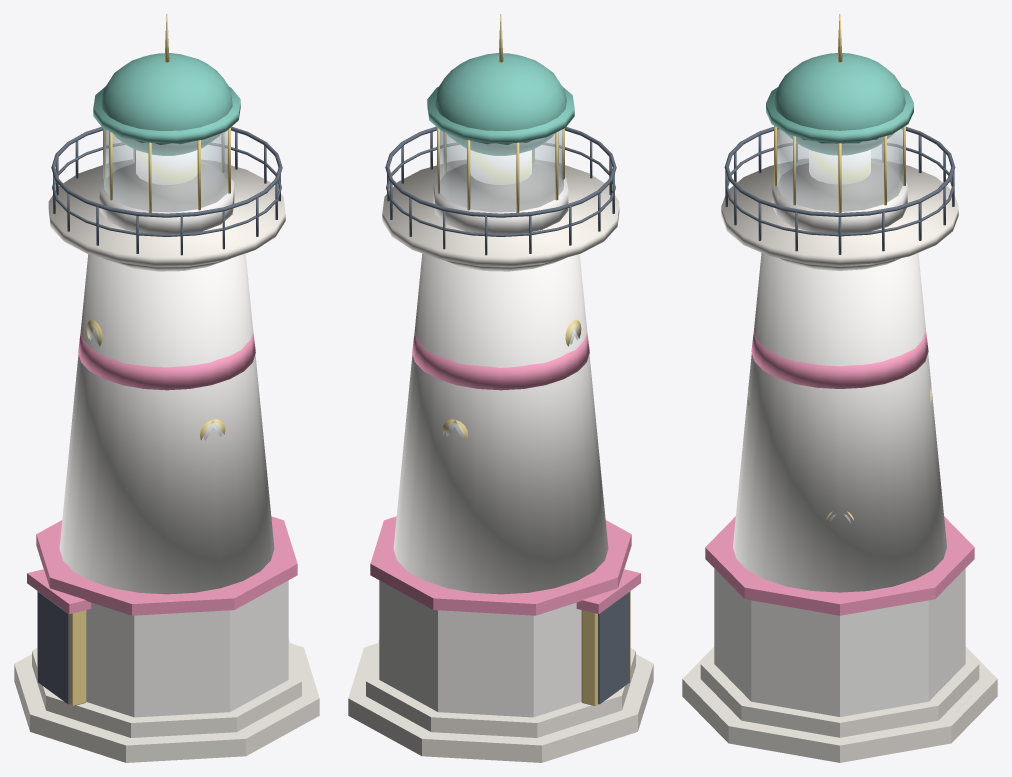
Rendered from prop_lighthouse_pavilion.glb.
3 renders of one model, left to right at view 1: azimuth 30°, elevation 25°; view 2: azimuth 150°, elevation 25°; view 3: azimuth 270°, elevation 25°, orthographic.
Parts seen in each view (by area): view 1: BaseStep1; view 2: BaseStep1; view 3: BaseStep1.
Part boxes in pixels (box(x1,y1,x2,y2)): BaseStep1: box(14, 14, 319, 762); BaseStep1: box(348, 14, 653, 762); BaseStep1: box(682, 14, 997, 762).
Size of the model in its own units: 6.9 by 16.47 by 6.9.
